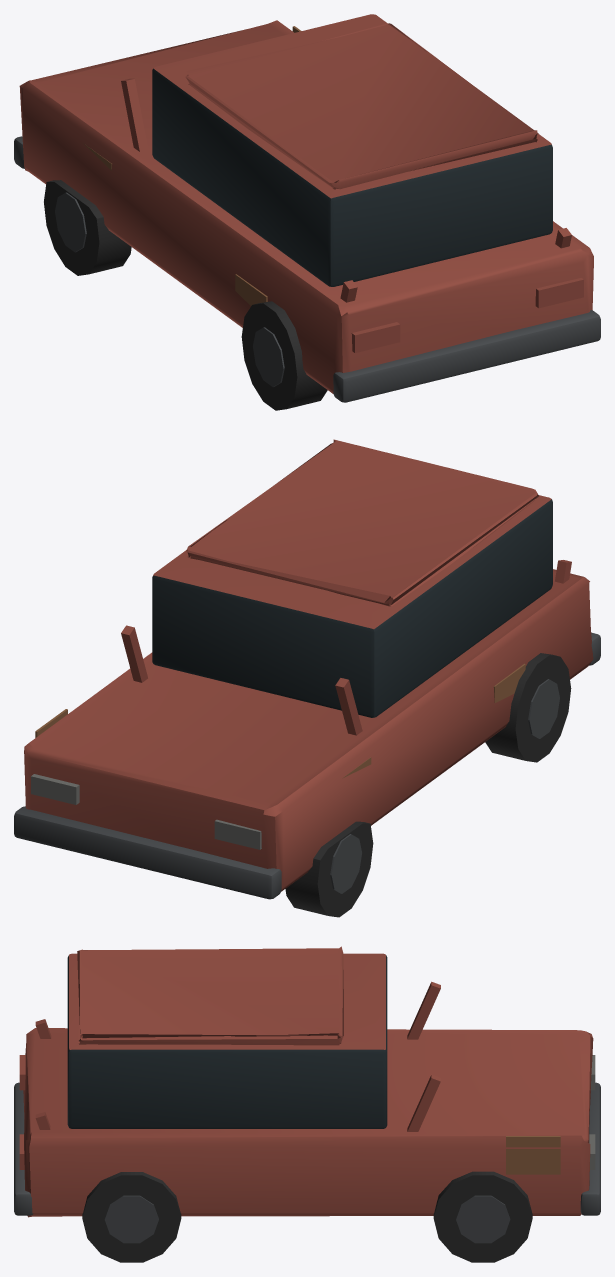
File: ZR_Car_Hatch_Red.fbx
3 renders of one model, top to bottom at view 1: azimuth 30°, elevation 25°; view 2: azimuth 150°, elevation 25°; view 3: azimuth 270°, elevation 25°, orthographic. The views are drawn at different scales.
Visible parts, largest first — view 1: ZR_Car_Hatch_Red; view 2: ZR_Car_Hatch_Red; view 3: ZR_Car_Hatch_Red.
Boxes of the visible parts, x1,y1,x2,y2 form: ZR_Car_Hatch_Red: (14,14,600,410); ZR_Car_Hatch_Red: (14,439,600,917); ZR_Car_Hatch_Red: (14,946,600,1262).
Size of the model in its own units: 1.95 by 1.69 by 4.04.
